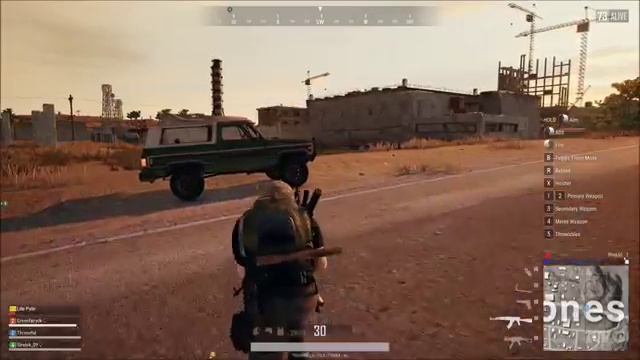Player: (212, 179, 354, 302)
